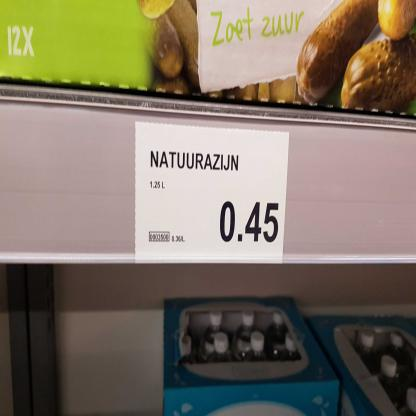prtg: (136, 123, 290, 264)
